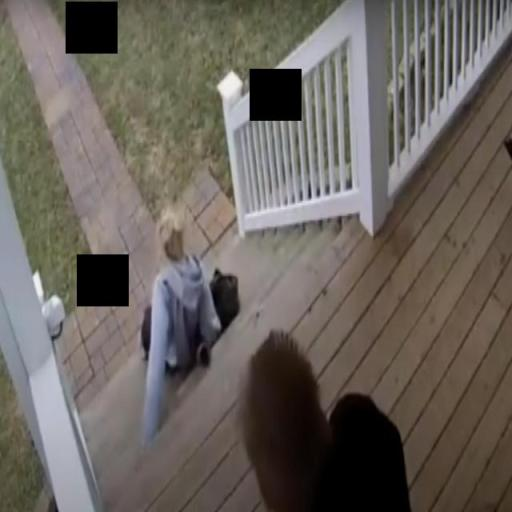Fall: (136, 209, 225, 441)
